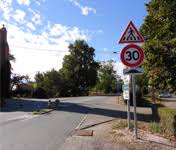Speed_limit_30km: (120, 44, 145, 67)
